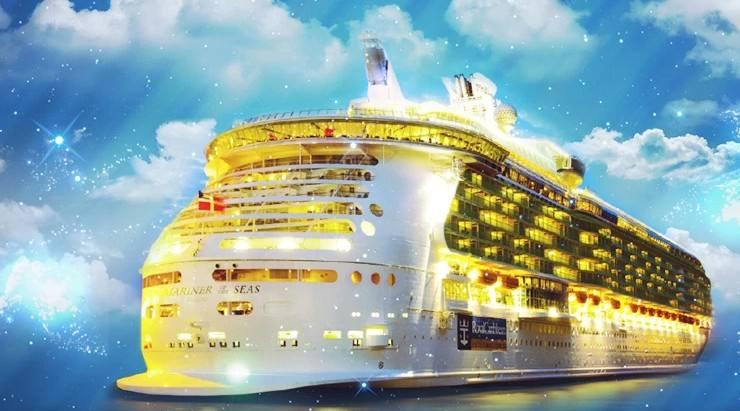youlun: (116, 35, 717, 400)
